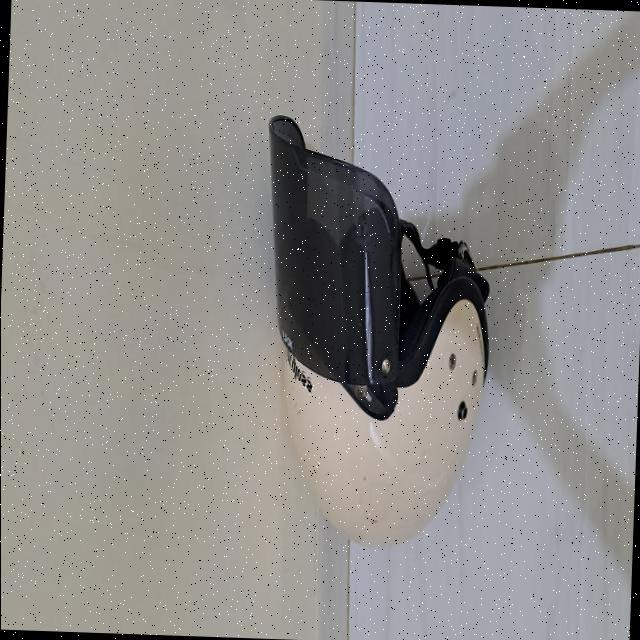Helm: (252, 104, 500, 554)
